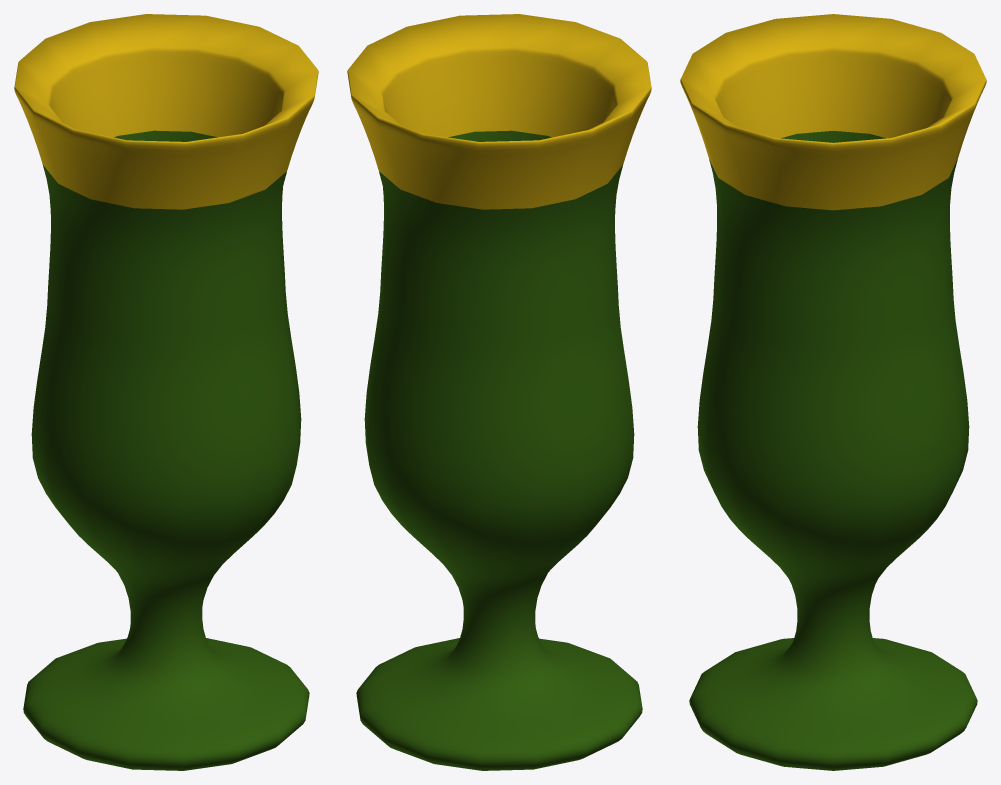
Rendered from Coctail_whight_glass.FBX.
The picture shows the model from 3 angles, left to right: view 1: azimuth 30°, elevation 25°; view 2: azimuth 150°, elevation 25°; view 3: azimuth 270°, elevation 25°; orthographic projection.
Parts seen in each view (by area): view 1: Line001; view 2: Line001; view 3: Line001.
Boxes of the visible parts, box(x1,y1,x2,y2) form: Line001: box(14, 14, 318, 770); Line001: box(347, 14, 651, 770); Line001: box(680, 14, 986, 770).
Bounding box in the file's own units: 35.57 × 83.11 × 35.57.
